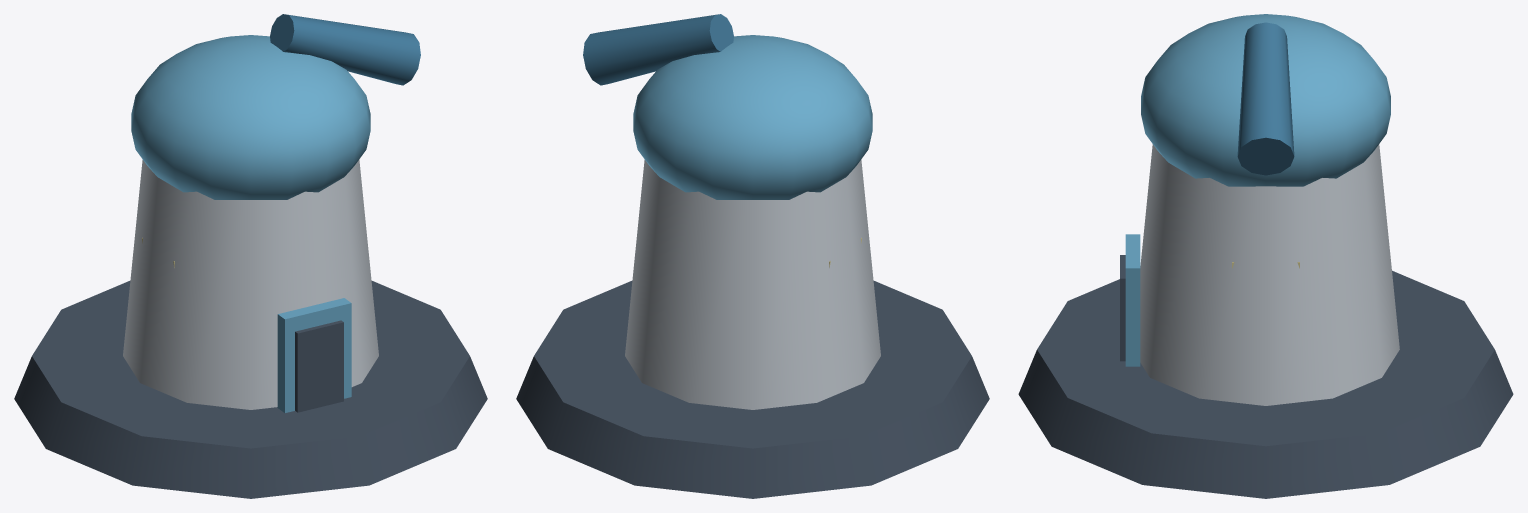
File: cloud_observatory.glb
3 renders of one model, left to right at view 1: azimuth 30°, elevation 25°; view 2: azimuth 150°, elevation 25°; view 3: azimuth 270°, elevation 25°, orthographic. The views are drawn at different scales.
Visible parts, largest first — view 1: platform, main_tower, dome, telescope_tube, door, door_frame; view 2: platform, main_tower, dome, telescope_tube; view 3: platform, main_tower, dome, telescope_tube, door_frame, door.
Part boxes in pixels (x1=…): platform: x1=14, y1=281, x2=487, y2=498; main_tower: x1=123, y1=160, x2=378, y2=409; dome: x1=131, y1=35, x2=370, y2=199; telescope_tube: x1=270, y1=14, x2=420, y2=85; door: x1=295, y1=320, x2=343, y2=412; door_frame: x1=277, y1=298, x2=351, y2=412; platform: x1=516, y1=281, x2=989, y2=498; main_tower: x1=625, y1=160, x2=880, y2=409; dome: x1=633, y1=35, x2=872, y2=199; telescope_tube: x1=583, y1=14, x2=733, y2=85; platform: x1=1018, y1=270, x2=1513, y2=498; main_tower: x1=1140, y1=144, x2=1399, y2=405; dome: x1=1141, y1=14, x2=1390, y2=186; telescope_tube: x1=1237, y1=22, x2=1294, y2=175; door_frame: x1=1125, y1=234, x2=1140, y2=366; door: x1=1120, y1=255, x2=1125, y2=361.
Bounding box in the file's own units: 8 × 6.98 × 8.
